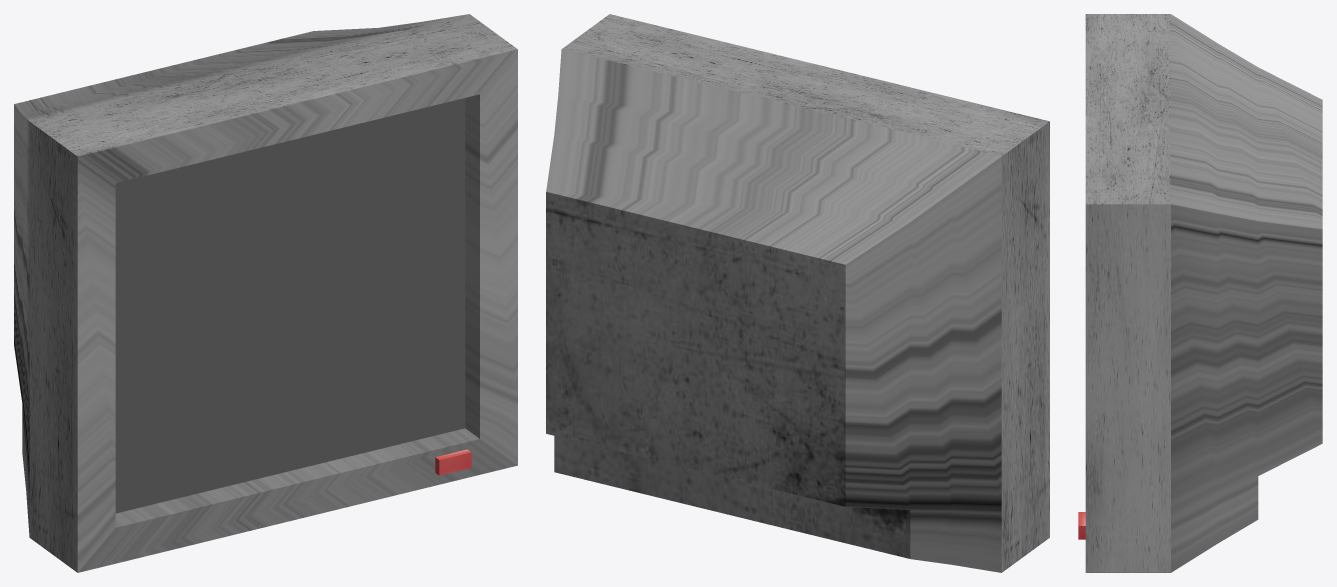
Rendered from TvRE1.fbx.
3 renders of one model, left to right at view 1: azimuth 30°, elevation 25°; view 2: azimuth 150°, elevation 25°; view 3: azimuth 270°, elevation 25°, orthographic. The views are drawn at different scales.
Visible parts, largest first — view 1: pCube1, pCube2; view 2: pCube1; view 3: pCube1.
Boxes of the visible parts, box(x1,y1,x2,y2) form: pCube1: box(14, 14, 517, 572); pCube2: box(435, 449, 471, 475); pCube1: box(546, 14, 1049, 572); pCube1: box(1085, 14, 1322, 572).
Size of the model in its own units: 0.515 by 0.4655 by 0.2796.
Materials: 3 (2 with a texture image).
